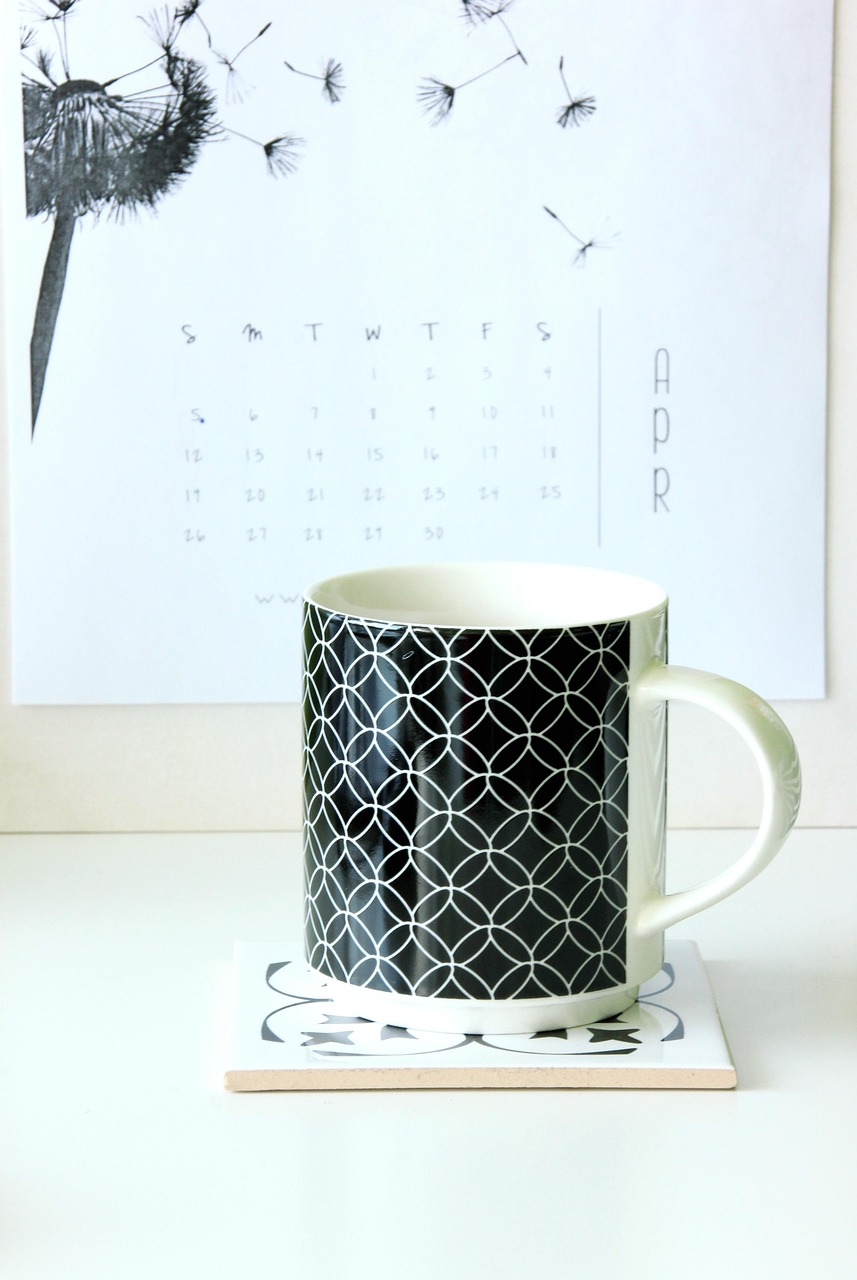mug: (252, 562, 823, 1057)
